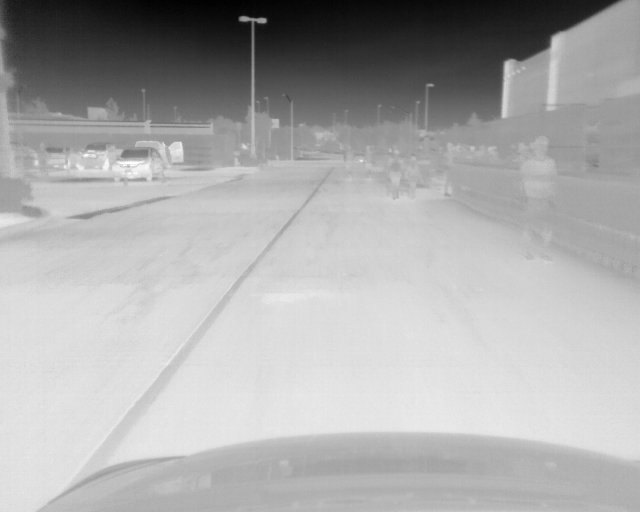car: (110, 145, 166, 184), (134, 140, 184, 167), (74, 142, 119, 171), (46, 145, 71, 169)
people: (517, 136, 563, 264), (386, 147, 404, 199), (443, 142, 459, 198), (406, 155, 423, 199), (342, 142, 355, 182), (362, 145, 376, 182)
